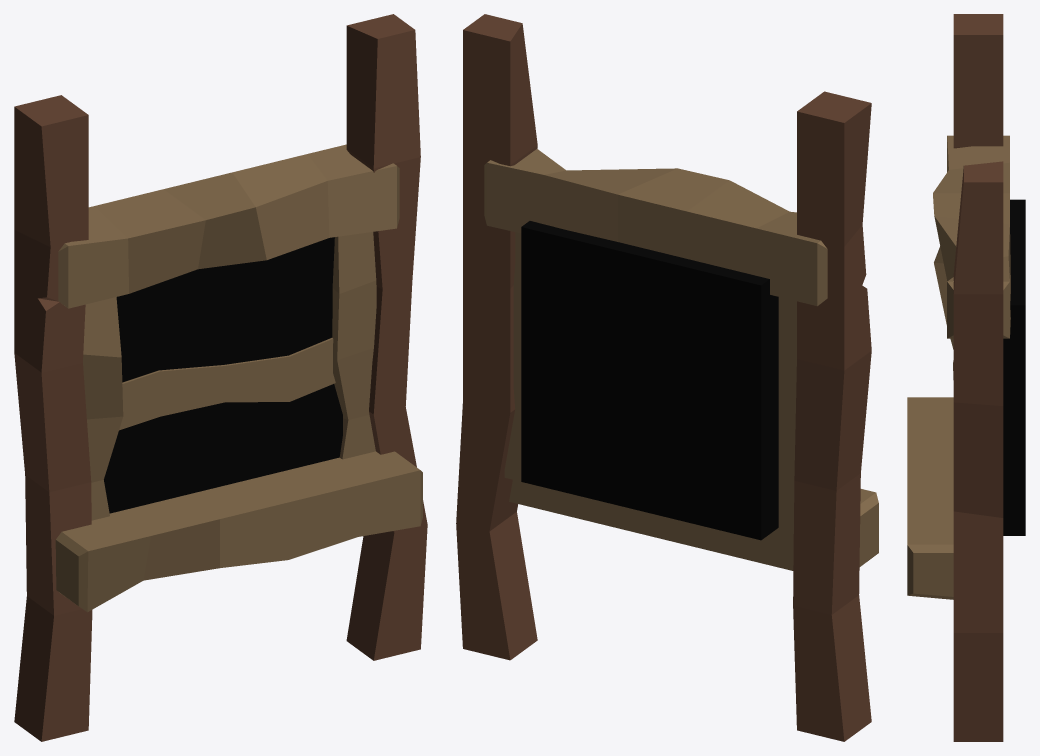
The model's file is House01_Window01.fbx.
3 renders of one model, left to right at view 1: azimuth 30°, elevation 25°; view 2: azimuth 150°, elevation 25°; view 3: azimuth 270°, elevation 25°, orthographic. The views are drawn at different scales.
Visible parts, largest first — view 1: Window01; view 2: Window01; view 3: Window01.
Part boxes in pixels (x1,y1,x2,y2): Window01: (14, 14, 427, 741); Window01: (456, 14, 878, 741); Window01: (907, 14, 1025, 741).
Bounding box in the file's own units: 268 × 408 × 78.25.
